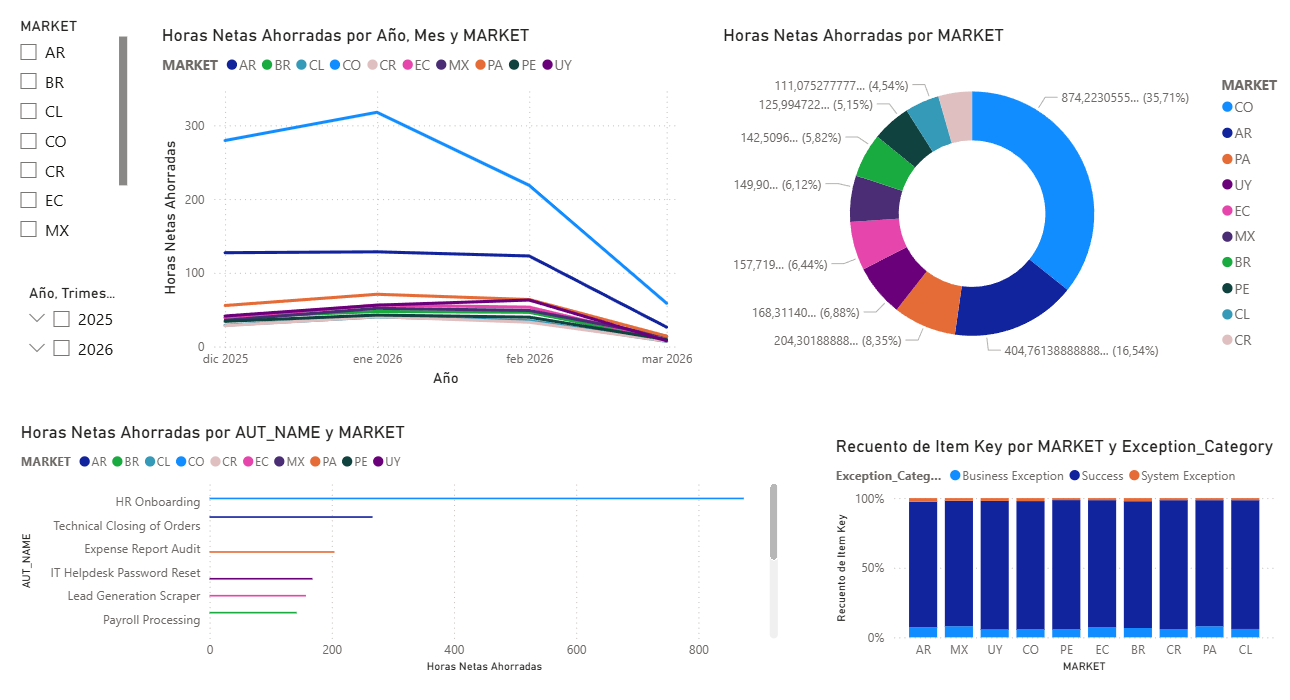

What the dashboard file says about the page in this screenshot:
{"tool":"powerbi","page":{"name":"Dashboard","canvas":[1280,720],"ordinal":0},"visuals":[{"type":"lineChart","fields":{"Y":["dev_analytics_dataset.Horas Netas Ahorradas"],"Series":["dev_analytics_dataset.MARKET"],"Category":["dev_analytics_dataset.Created.Variación.Jerarquía de fechas.Año","dev_analytics_dataset.Created.Variación.Jerarquía de fechas.Mes"]},"box":[161.2,36.2,528.8,358.8],"z":0},{"type":"clusteredBarChart","fields":{"Y":["dev_analytics_dataset.Horas Netas Ahorradas"],"Category":["dev_analytics_dataset.AUT_NAME"],"Series":["dev_analytics_dataset.MARKET"]},"box":[23.2,425.5,750.8,250.7],"z":1000},{"type":"donutChart","fields":{"Category":["dev_analytics_dataset.MARKET"],"Y":["dev_analytics_dataset.Horas Netas Ahorradas"]},"box":[710,36.2,570,351.2],"z":2000},{"type":"hundredPercentStackedColumnChart","fields":{"Category":["dev_analytics_dataset.MARKET"],"Y":["CountNonNull(dev_analytics_dataset.Item Key)"],"Series":["dev_analytics_dataset.Exception_Category"]},"box":[820.5,439,439,237.2],"z":3000},{"type":"slicer","fields":{"Values":["dev_analytics_dataset.MARKET"]},"box":[15,25,122.5,235],"z":4000},{"type":"slicer","fields":{"Values":["dev_analytics_dataset.Created.Variación.Jerarquía de fechas.Año","dev_analytics_dataset.Created.Variación.Jerarquía de fechas.Trimestre","dev_analytics_dataset.Created.Variación.Jerarquía de fechas.Mes"]},"box":[23.8,286.2,122.5,123.8],"z":5000}]}

Visuals, with their boxes on the page's 1280x720 design canvas (x1, y1, x2, y2). These are canvas units, not pixel positions in the 1290x700 screenshot, which may show the page scaled, cropped or inside an application window:
lineChart - dev_analytics_dataset.Horas Netas Ahorradas x dev_analytics_dataset.MARKET: (left=161, top=36, right=690, bottom=395)
clusteredBarChart - dev_analytics_dataset.Horas Netas Ahorradas x dev_analytics_dataset.AUT_NAME: (left=23, top=426, right=774, bottom=676)
donutChart - dev_analytics_dataset.MARKET x dev_analytics_dataset.Horas Netas Ahorradas: (left=710, top=36, right=1280, bottom=387)
hundredPercentStackedColumnChart - dev_analytics_dataset.MARKET x CountNonNull(dev_analytics_dataset.Item Key): (left=820, top=439, right=1260, bottom=676)
slicer - dev_analytics_dataset.MARKET: (left=15, top=25, right=138, bottom=260)
slicer - dev_analytics_dataset.Created.Variación.Jerarquía de fechas.Año x dev_analytics_dataset.Created.Variación.Jerarquía de fechas.Trimestre: (left=24, top=286, right=146, bottom=410)
